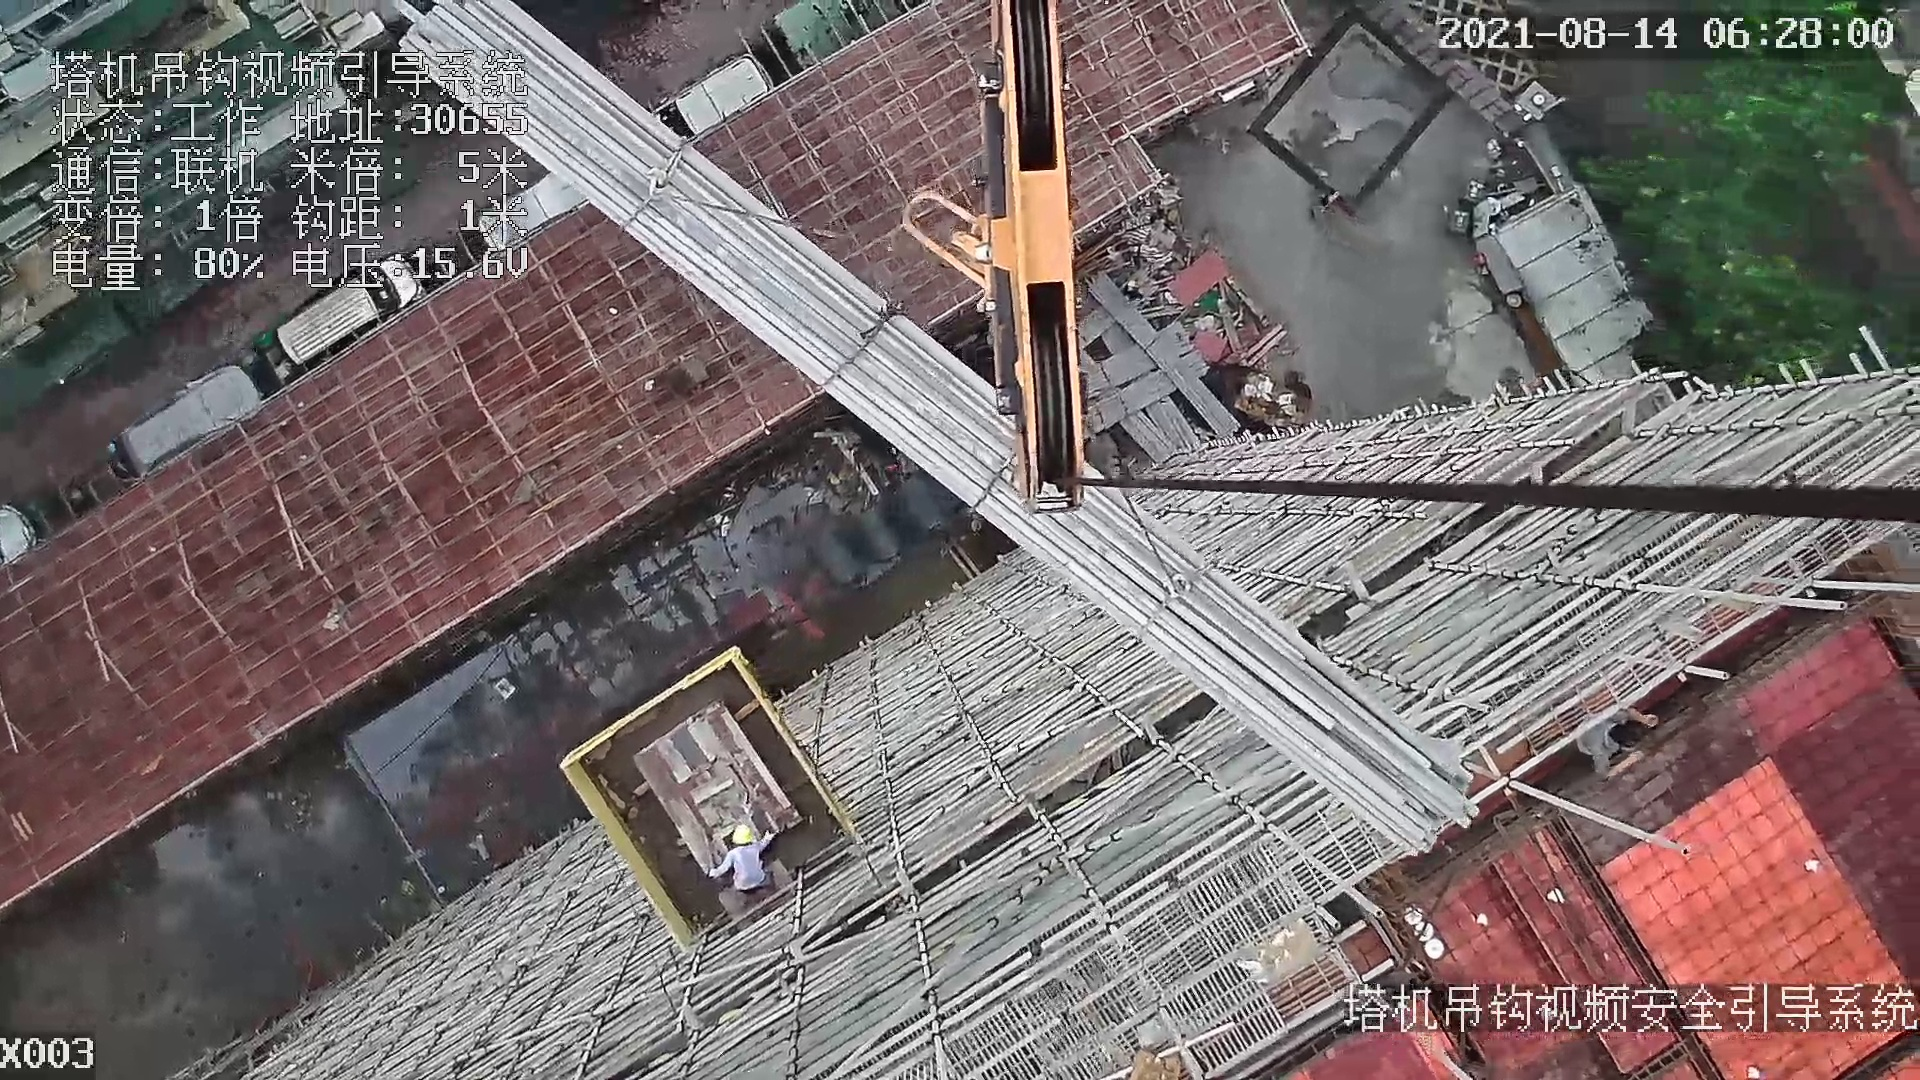helmet: (720, 819, 762, 851)
hook: (976, 1, 1088, 516)
person: (703, 821, 797, 890)
